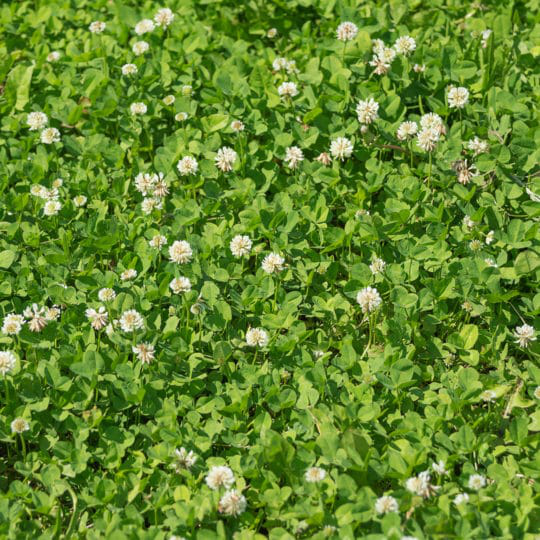clover: (4, 7, 535, 534)
